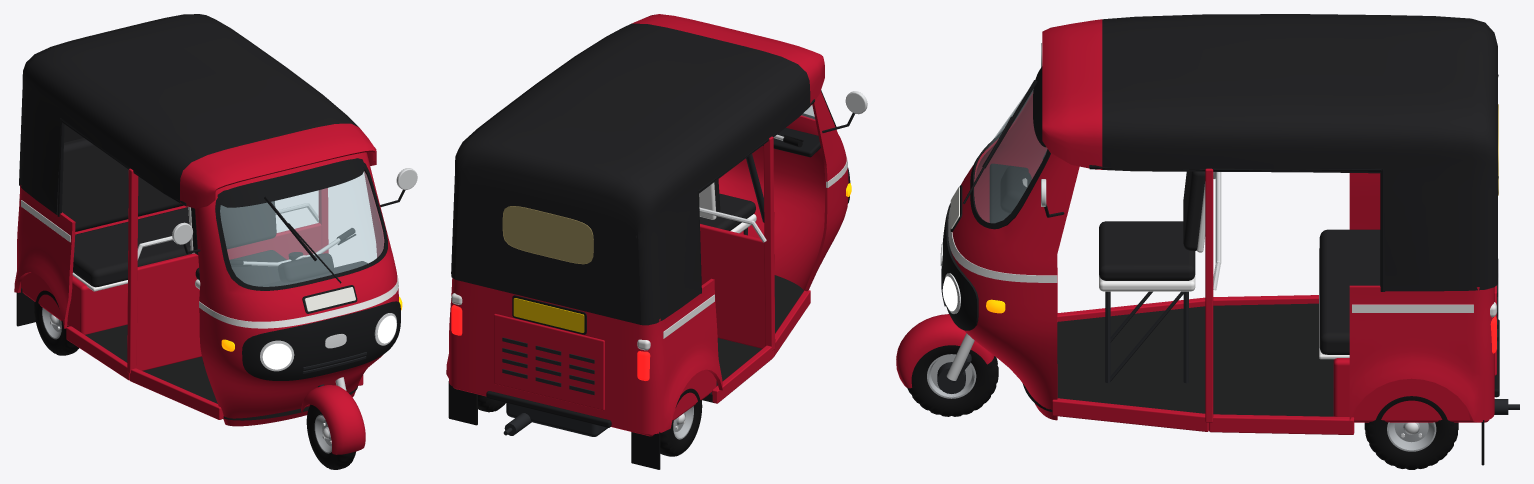
Rendered from bajaj_red.glb.
3 renders of one model, left to right at view 1: azimuth 30°, elevation 25°; view 2: azimuth 150°, elevation 25°; view 3: azimuth 270°, elevation 25°, orthographic. The views are drawn at different scales.
Parts seen in each view (by area): view 1: Body, Steering, Wheel_F, Wheel_RL, Plate_Front; view 2: Body, Wheel_RL, Plate_Rear, Steering; view 3: Body, Wheel_RR, Wheel_F, Steering.
Part boxes in pixels (x1,y1,x2,y2): Body: (14,14,417,426); Steering: (229,228,365,454); Wheel_F: (306,404,355,469); Wheel_RL: (34,290,79,355); Plate_Front: (304,287,355,311); Body: (446,14,867,469); Wheel_RL: (660,388,702,456); Plate_Rear: (513,298,584,332); Steering: (746,134,803,222); Body: (940,14,1519,465); Wheel_RR: (1364,396,1458,469); Wheel_F: (907,345,998,416); Steering: (896,151,1046,393).
Size of the model in its own units: 1.52 by 1.7 by 2.71.
